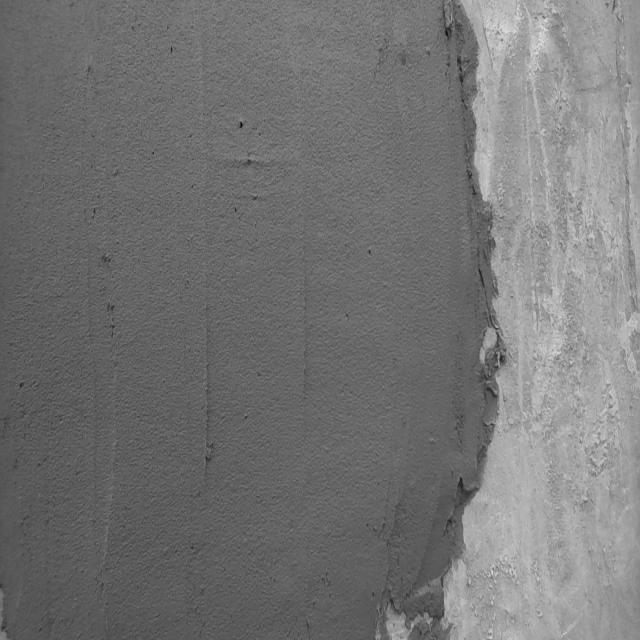trowels marks: (198, 302, 217, 488), (291, 271, 318, 395)
